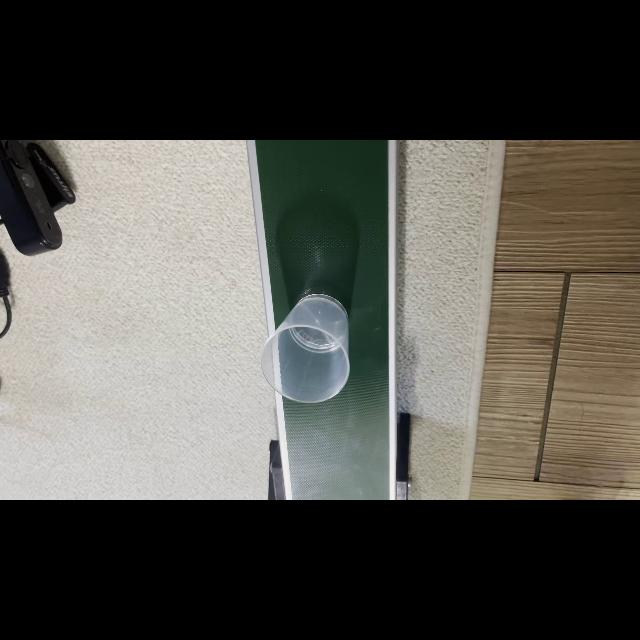clean: (260, 294, 352, 404)
